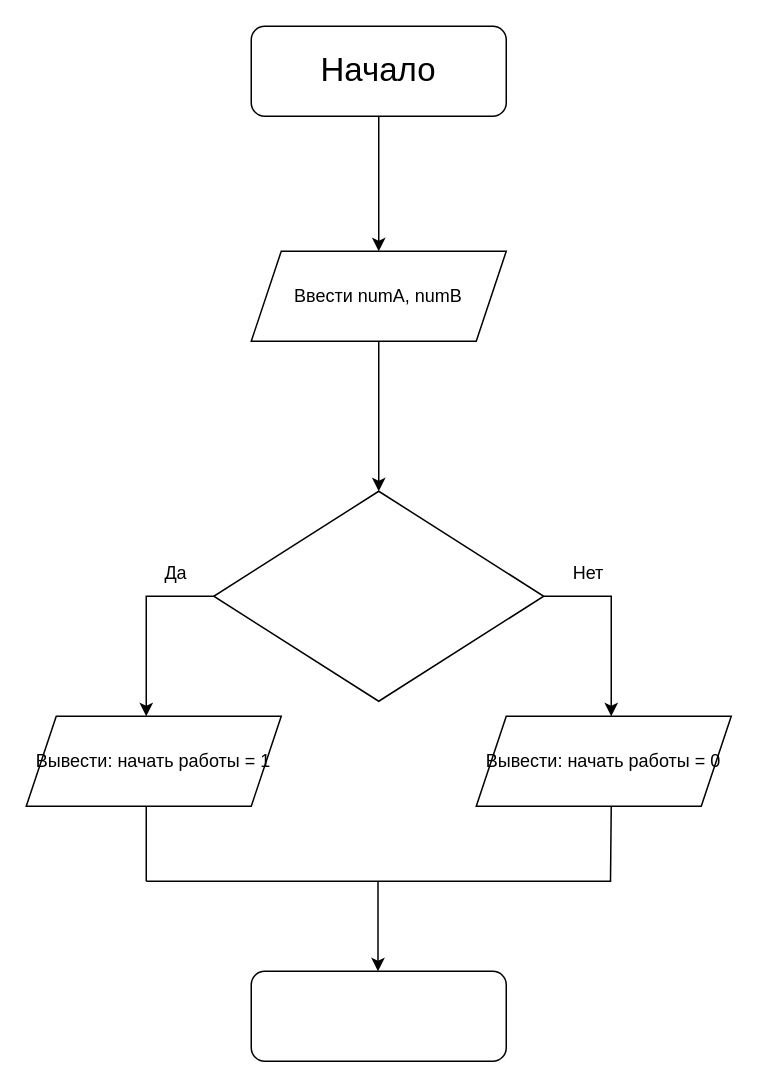
Image size: 758x1088. Some labels were removed from this diagram. Here are the shapes that lost their labels. From the top down, the centre of each, then its label:
the point at 378,595: numA чётное И numB нечётное ИЛИ numA нечётное И numB чётное
the point at 378,1015: Конец
